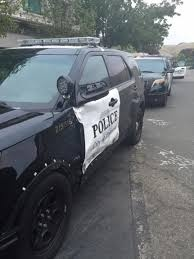Dent: (51, 100, 124, 170), (130, 82, 142, 108)
